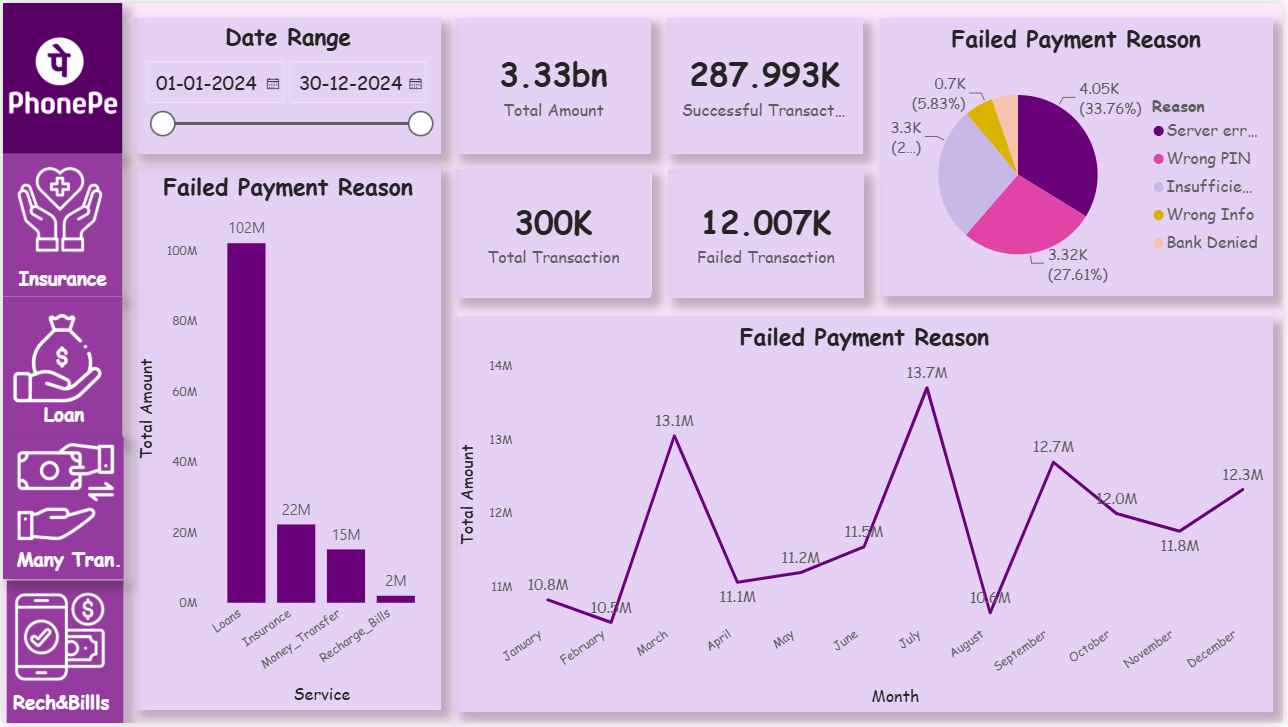

The page's visual inventory and layout, read from the dashboard file:
{"tool":"powerbi","page":{"name":"Home","canvas":[1280,720],"ordinal":0},"visuals":[{"type":"slicer","title":"Date Range","fields":{"Values":["All_Transactions.Date"]},"box":[131.7,15.1,307.4,135.8],"z":0},{"type":"shape","box":[0,150.9,119.4,142.4],"z":0,"group":"g3"},{"type":"shape","box":[0,433.6,120.8,142.7],"z":0,"group":"g5"},{"type":"cardVisual","title":"Date Range","fields":{"Data":["Sum(All_Transactions.Amount)"]},"box":[452.8,15.1,196.2,135.8],"z":1000},{"type":"shape","box":[0,293.7,119.4,141.3],"z":1000,"group":"g4"},{"type":"shape","box":[3.7,577.2,117,145.5],"z":1000,"group":"g6"},{"type":"cardVisual","title":"Date Range","fields":{"Data":["Count(All_Transactions.Transaction_ID)"]},"box":[664.2,15.1,196.2,135.8],"z":2000},{"type":"image","box":[6.9,435,112.5,107],"z":2000,"group":"g5"},{"type":"cardVisual","title":"Date Range","fields":{"Data":["Count(All_Transactions.Transaction_ID)"]},"box":[452.8,166,196.2,129],"z":3000},{"type":"image","box":[1.4,581.8,111.4,102.3],"z":3000,"group":"g6"},{"type":"shape","box":[0,0,119.4,150.8],"z":4000,"group":"g1"},{"type":"cardVisual","title":"Date Range","fields":{"Data":["Count(All_Transactions.Transaction_ID)"]},"box":[665.5,166,196.2,129],"z":4000},{"type":"textbox","box":[1.4,537.9,130.4,38.4],"z":4000,"group":"g5"},{"type":"image","box":[1.4,0,116.6,150.9],"z":5000,"group":"g1"},{"type":"pieChart","title":"Failed Payment Reason","fields":{"Category":["All_Transactions.Reason"],"Y":["CountNonNull(All_Transactions.Reason)"]},"box":[876.8,15.1,393.8,278.6],"z":5000},{"type":"textbox","box":[4.9,679.5,115.8,43.1],"z":5000,"group":"g6"},{"type":"image","box":[4.1,304.7,104.3,97.4],"z":6000,"group":"g4"},{"type":"lineChart","title":"Failed Payment Reason","fields":{"Y":["Sum(All_Transactions.Amount)"],"Category":["All_Transactions.Date.Variation.Date Hierarchy.Month"]},"box":[452.8,314.2,817.8,395.2],"z":6000},{"type":"group","id":"g1","title":"Group 1","box":[0,0,119.4,150.9],"z":7000},{"type":"image","box":[3.6,155.7,106.2,100.1],"z":8000,"group":"g3"},{"type":"group","id":"g2","title":"Group 4","box":[1.4,577.2,119.4,145.5],"z":8000},{"type":"actionButton","box":[0,150.9,118,141.3],"z":9000},{"type":"clusteredColumnChart","title":"Failed Payment Reason","fields":{"Y":["Sum(All_Transactions.Amount)"],"Category":["All_Transactions.Service"]},"box":[131.7,163.3,307.4,543.4],"z":10000},{"type":"textbox","box":[1.2,255.9,117,37.4],"z":10000,"group":"g3"},{"type":"group","id":"g3","title":"Group 2","box":[0,150.9,119.4,142.7],"z":11000},{"type":"group","id":"g4","title":"Group 3","box":[0,292.8,120.8,142.2],"z":12000},{"type":"textbox","box":[1.4,392.5,119.4,42.5],"z":12000,"group":"g4"},{"type":"group","id":"g5","title":"Group 5","box":[0,433.6,131.7,142.7],"z":13000},{"type":"actionButton","box":[0,292.8,118,141.3],"z":13001,"group":"g4"},{"type":"actionButton","box":[0,579.1,118,141.3],"z":14000},{"type":"actionButton","box":[0,150.9,118,141.3],"z":15000},{"type":"actionButton","box":[0,433.6,118,141.3],"z":16000},{"type":"group","id":"g6","title":"Group 6","box":[1.4,577.2,119.4,145.5],"z":20005,"group":"g2"}]}

Visuals, with their boxes in screenshot pixels (x1, y1, x2, y2), scaled from the page's 1280x720 canvas onto the 1288x727 screenshot:
"Date Range" slicer: (left=133, top=15, right=442, bottom=152)
shape: (left=0, top=152, right=120, bottom=296)
shape: (left=0, top=438, right=122, bottom=582)
"Date Range" cardVisual: (left=456, top=15, right=653, bottom=152)
shape: (left=0, top=297, right=120, bottom=439)
shape: (left=4, top=583, right=121, bottom=726)
"Date Range" cardVisual: (left=668, top=15, right=866, bottom=152)
image: (left=7, top=439, right=120, bottom=547)
"Date Range" cardVisual: (left=456, top=168, right=653, bottom=298)
image: (left=1, top=587, right=114, bottom=691)
shape: (left=0, top=0, right=120, bottom=152)
"Date Range" cardVisual: (left=670, top=168, right=867, bottom=298)
textbox: (left=1, top=543, right=133, bottom=582)
image: (left=1, top=0, right=119, bottom=152)
"Failed Payment Reason" pieChart: (left=882, top=15, right=1279, bottom=297)
textbox: (left=5, top=686, right=121, bottom=726)
image: (left=4, top=308, right=109, bottom=406)
"Failed Payment Reason" lineChart: (left=456, top=317, right=1279, bottom=716)
"Group 1" group: (left=0, top=0, right=120, bottom=152)
image: (left=4, top=157, right=110, bottom=258)
"Group 4" group: (left=1, top=583, right=122, bottom=726)
actionButton: (left=0, top=152, right=119, bottom=295)
"Failed Payment Reason" clusteredColumnChart: (left=133, top=165, right=442, bottom=714)
textbox: (left=1, top=258, right=119, bottom=296)
"Group 2" group: (left=0, top=152, right=120, bottom=296)
"Group 3" group: (left=0, top=296, right=122, bottom=439)
textbox: (left=1, top=396, right=122, bottom=439)
"Group 5" group: (left=0, top=438, right=133, bottom=582)
actionButton: (left=0, top=296, right=119, bottom=438)
actionButton: (left=0, top=585, right=119, bottom=726)
actionButton: (left=0, top=152, right=119, bottom=295)
actionButton: (left=0, top=438, right=119, bottom=580)
"Group 6" group: (left=1, top=583, right=122, bottom=726)
